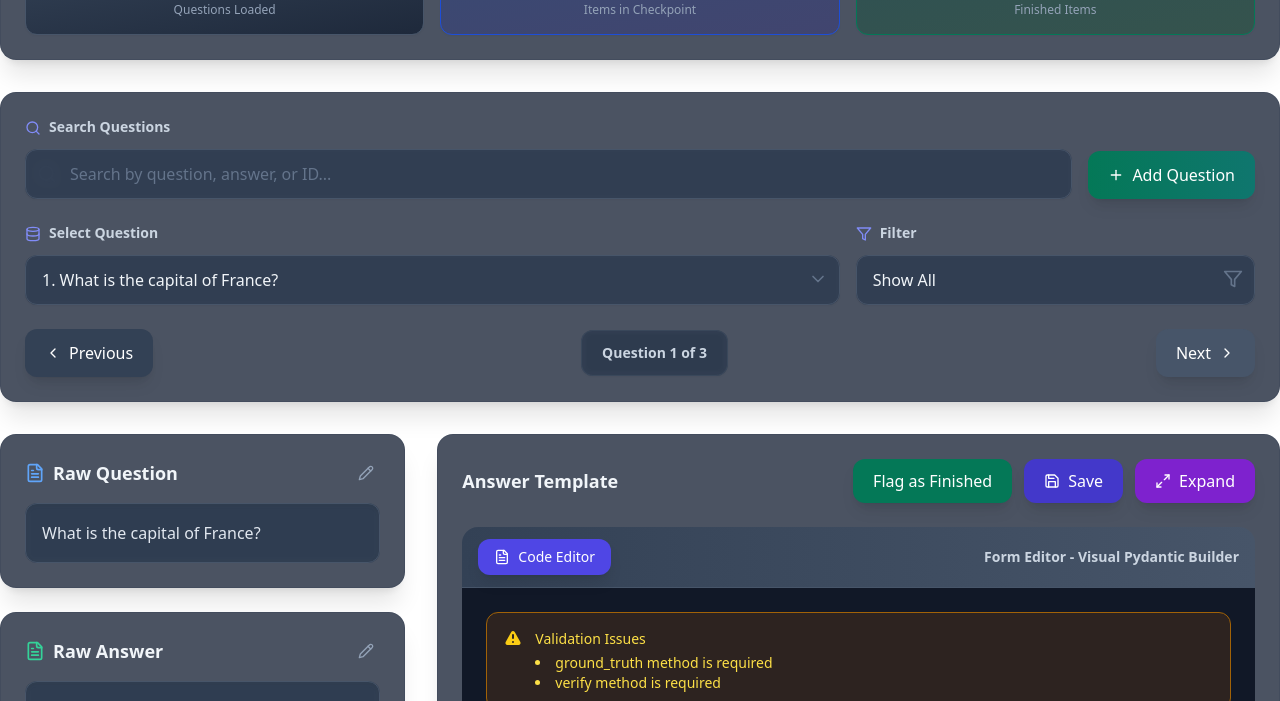
Question Navigation Integration Tests › integ-010: Question navigation in curator › should navigate questions using next/previous buttons
The width and height of the screenshot is (1280, 701).
(page scrolled)
Expected: the text "Question 1 of 3" is shown, [602,343,707,363]
// Click Next button
Click the button "Next" at (1205, 353), box [1156,329,1255,377]
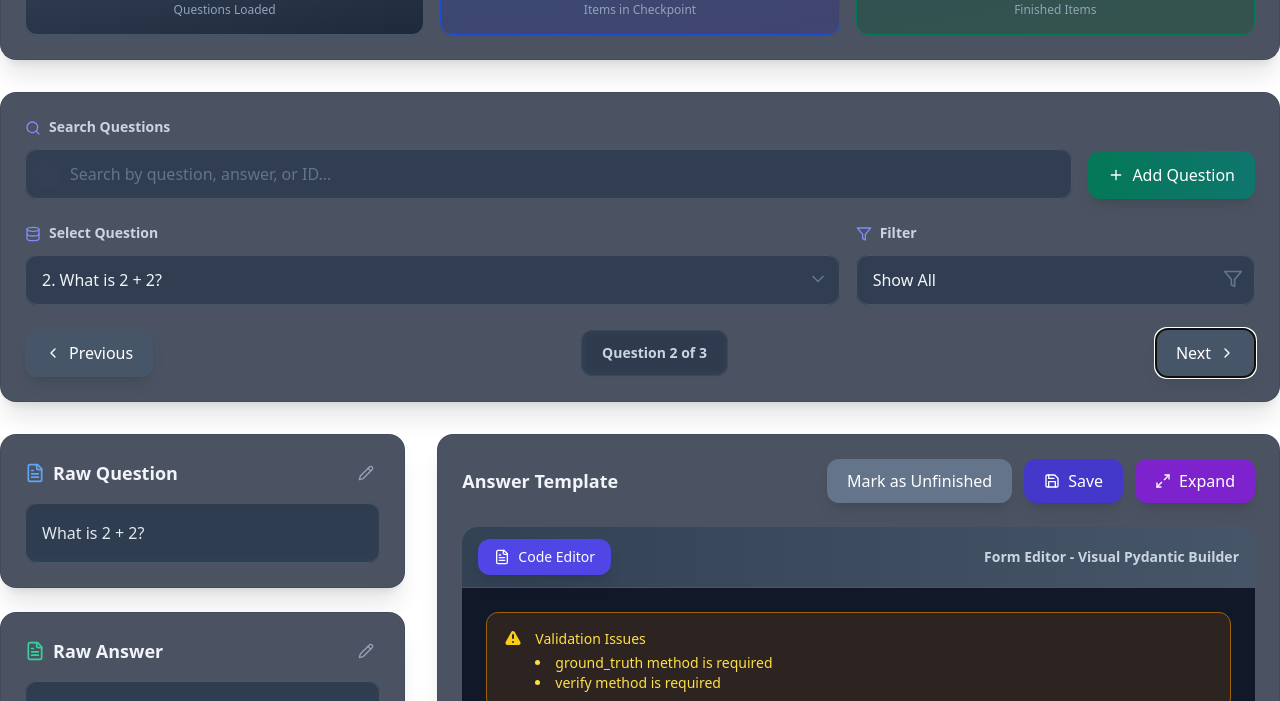
Expected: the text "Question 2 of 3" is shown, [602,343,707,363]
// Click Previous button
Click the button "Previous" at (89, 353), box [25,329,153,377]
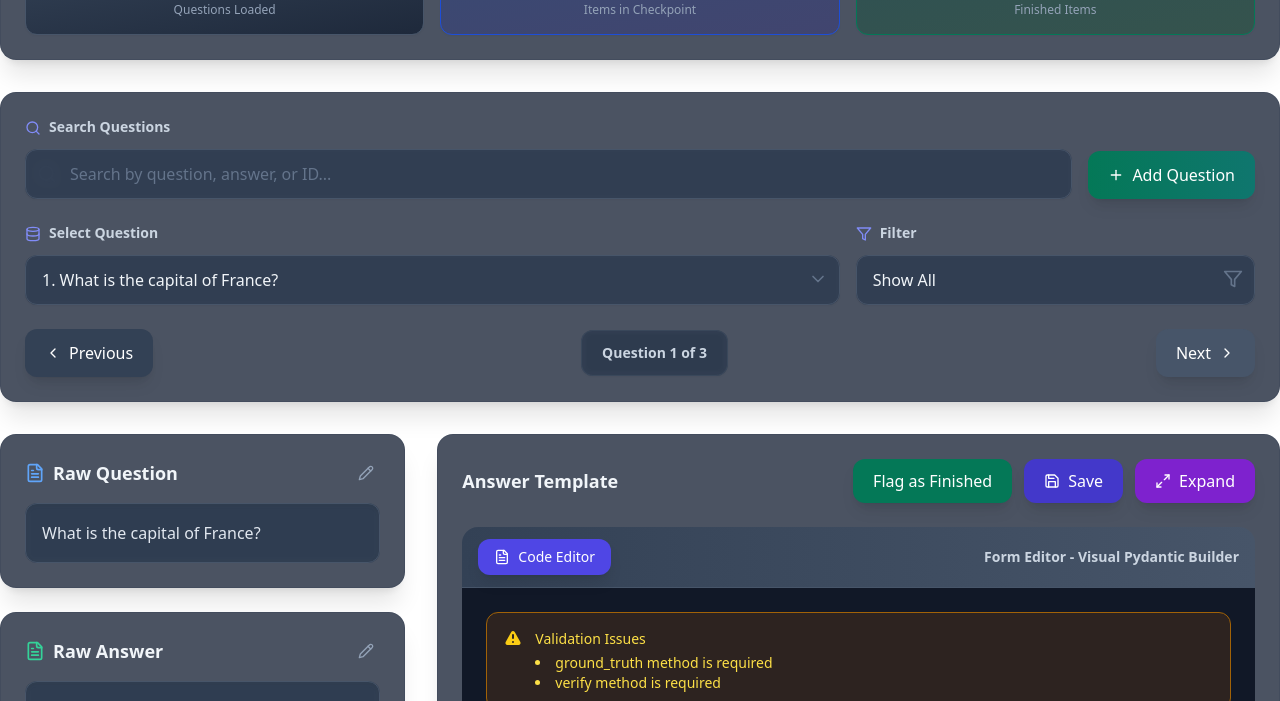
Expected: the text "Question 1 of 3" is shown, [602,343,707,363]
